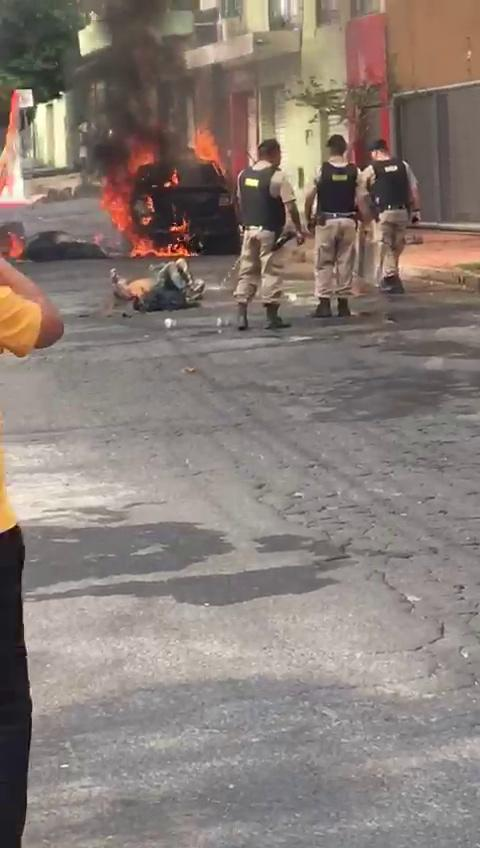fire: (190, 114, 222, 174), (106, 172, 136, 234)
smoke: (104, 50, 170, 146)
